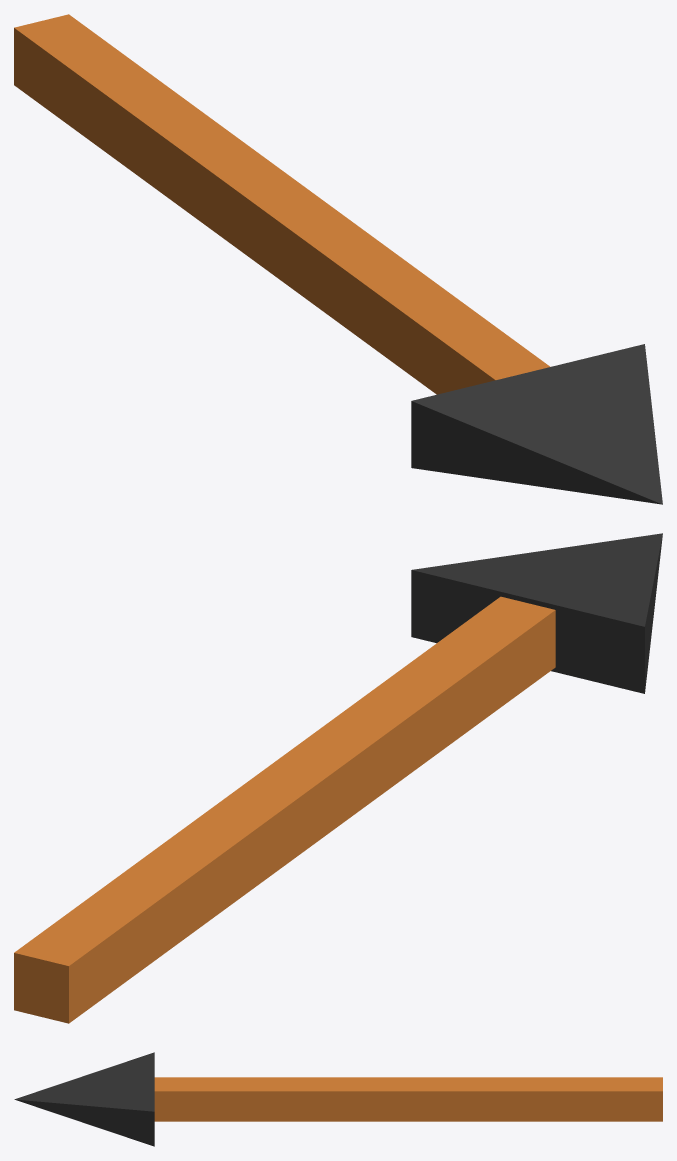
Rendered from ballista arrow small.fbx.
3 renders of one model, top to bottom at view 1: azimuth 30°, elevation 25°; view 2: azimuth 150°, elevation 25°; view 3: azimuth 270°, elevation 25°, orthographic. The views are drawn at different scales.
Parts seen in each view (by area): view 1: arrow small; view 2: arrow small; view 3: arrow small.
Part boxes in pixels (x1,y1,x2,y2): arrow small: [14, 14, 662, 504]; arrow small: [14, 533, 662, 1023]; arrow small: [14, 1052, 662, 1146].
Bounding box in the file's own units: 20.08 × 5.52 × 92.58.
